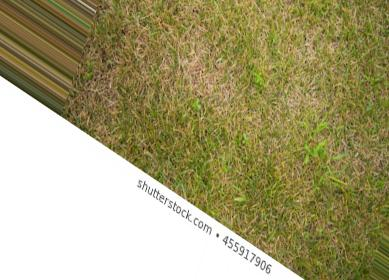patch: (183, 55, 228, 92), (226, 113, 270, 146), (293, 87, 316, 108)
